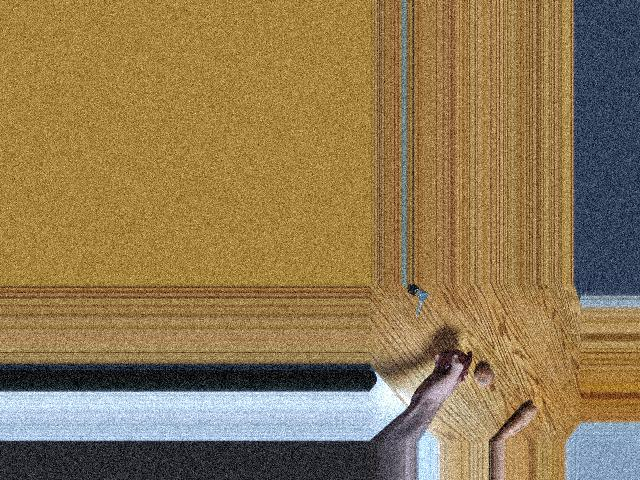onion: (471, 366, 495, 386)
